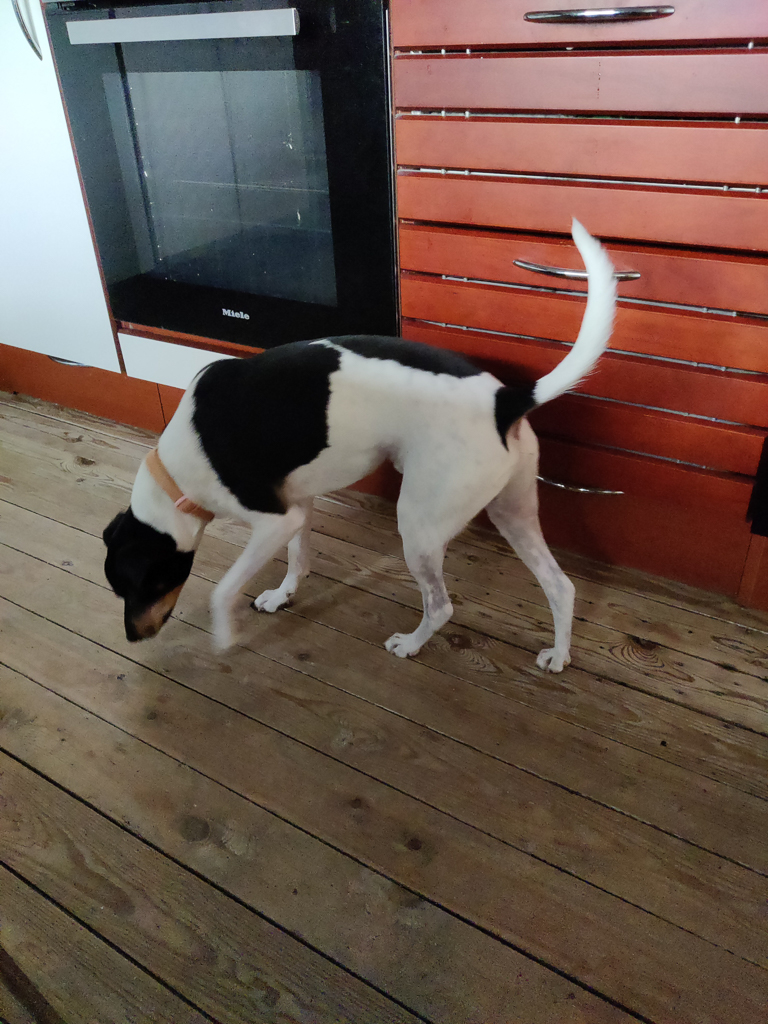Dog: (86, 191, 644, 698)
